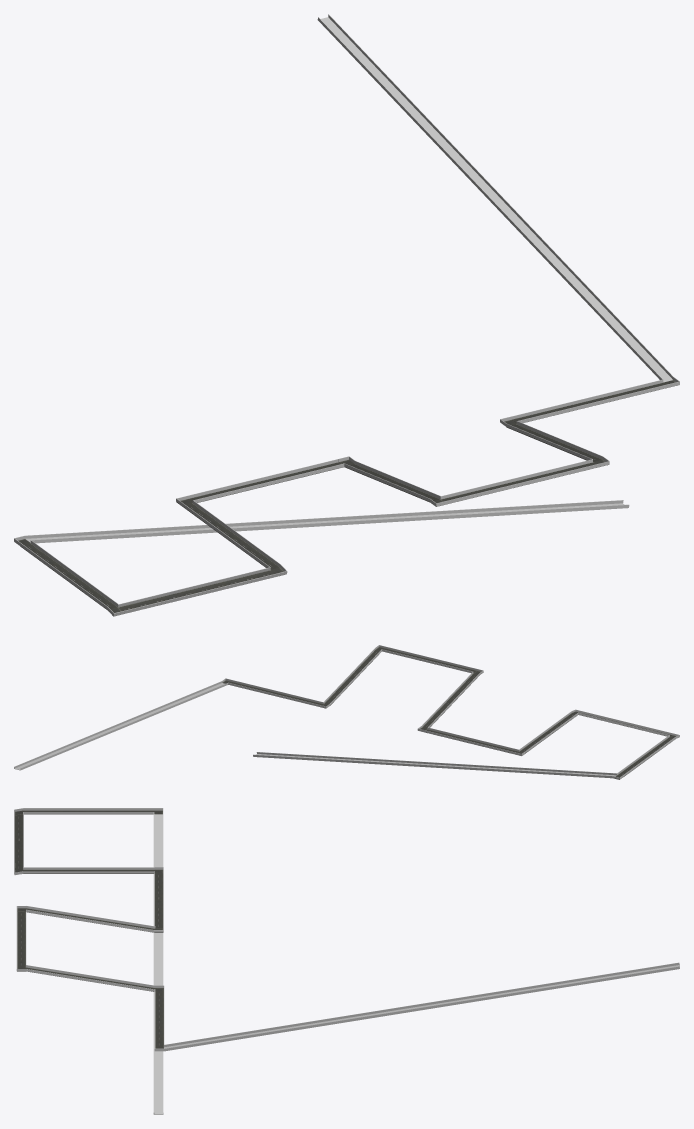
File: stage3_track.obj
The picture shows the model from 3 angles, top to bottom: view 1: azimuth 30°, elevation 25°; view 2: azimuth 150°, elevation 25°; view 3: azimuth 270°, elevation 25°; orthographic projection. The views are drawn at different scales.
Size of the model in its own units: 1305 by 423 by 1526.
